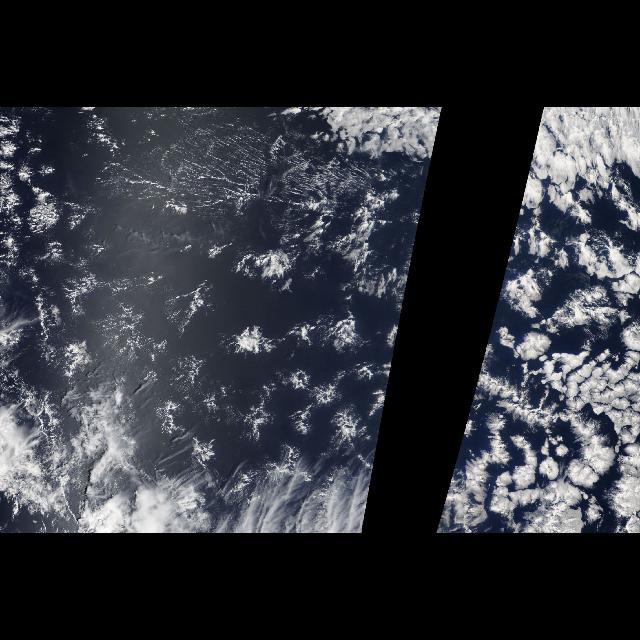Flower: (2, 116, 442, 462), (434, 117, 634, 533)
Sugar: (11, 135, 385, 273)
